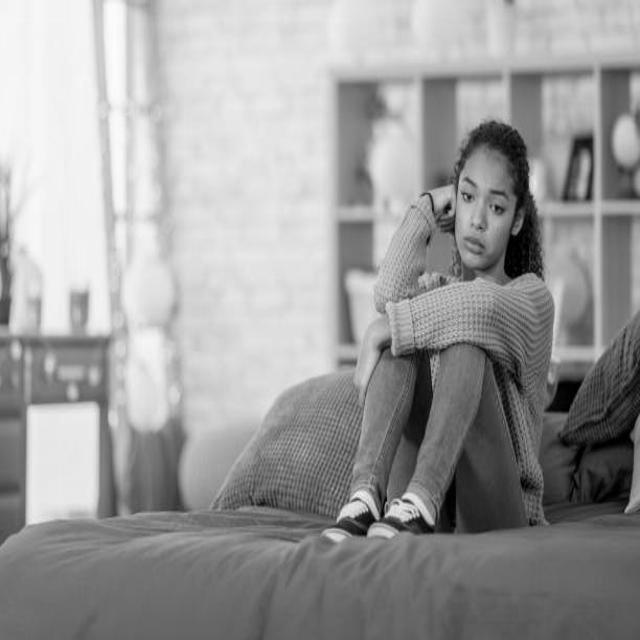Sadness: (452, 146, 516, 272)
